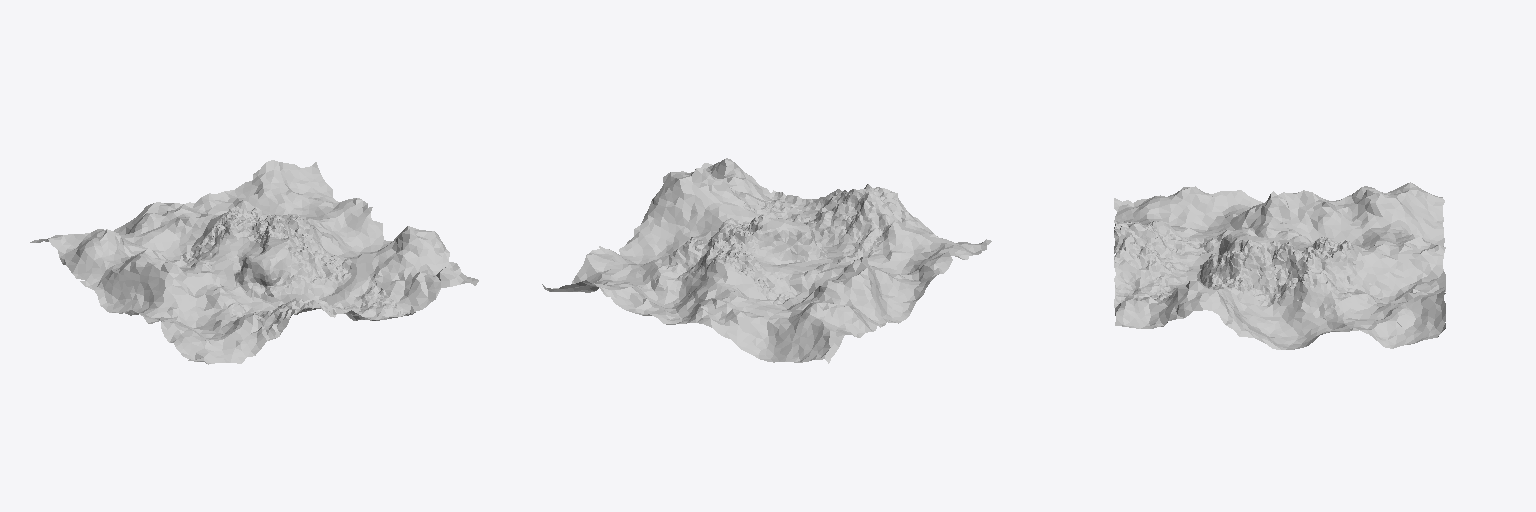
Rendered from testterrain12.obj.
3 renders of one model, left to right at view 1: azimuth 30°, elevation 25°; view 2: azimuth 150°, elevation 25°; view 3: azimuth 270°, elevation 25°, orthographic.
Parts seen in each view (by area): view 1: Mountains_MountainsMesh; view 2: Mountains_MountainsMesh; view 3: Mountains_MountainsMesh.
Boxes of the visible parts, box(x1,y1,x2,y2) form: Mountains_MountainsMesh: box(30, 160, 478, 364); Mountains_MountainsMesh: box(542, 158, 991, 363); Mountains_MountainsMesh: box(1114, 182, 1445, 349).
Bounding box in the file's own units: 37.63 × 7.44 × 37.64.